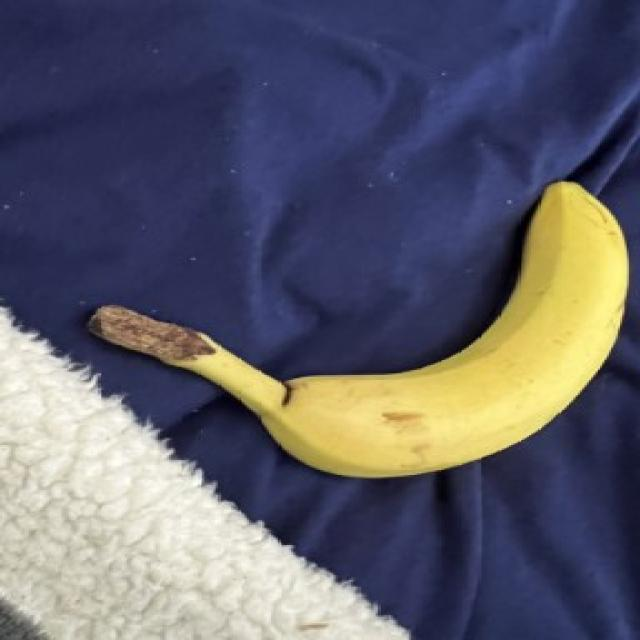Ripe: (60, 140, 640, 500)
